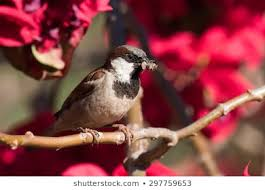home_sparrow: (47, 44, 162, 155)
